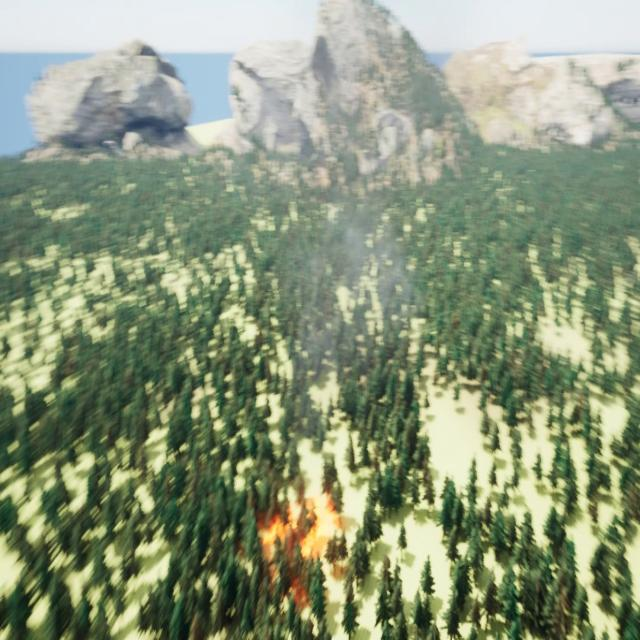fire: (257, 487, 345, 614)
